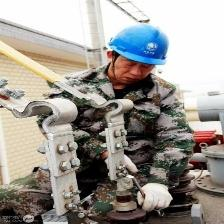Person: (68, 24, 200, 160)
helmet: (103, 25, 171, 71)
no-vest: (72, 78, 178, 163)
